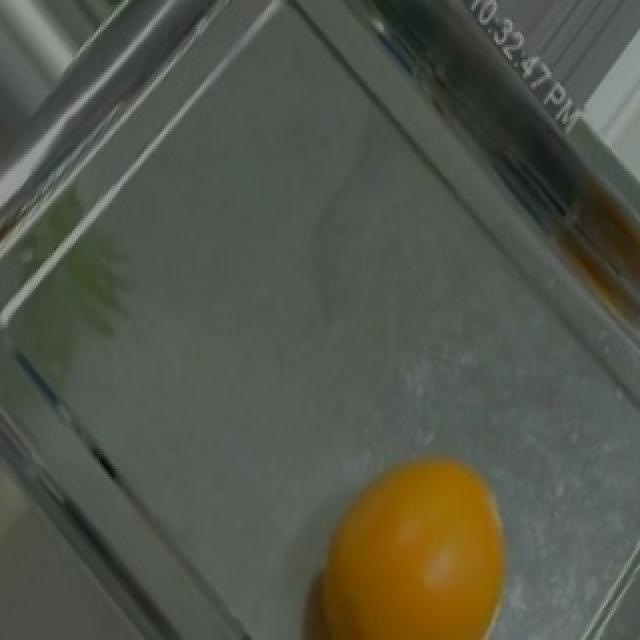Fruit: (280, 436, 530, 640)
